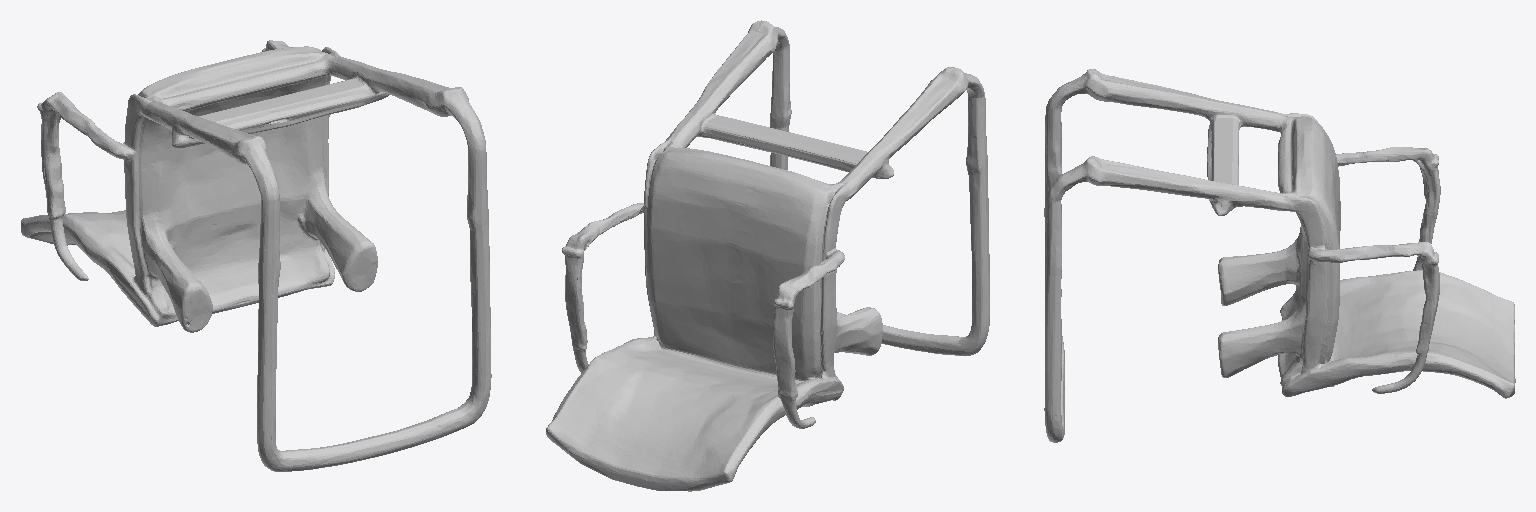
robot.urdf — chairblack_cari4d:
<?xml version="1.0" ?>
<robot name="chairblack_cari4d">
  <material name="chairblack_cari4d_color">
    <color rgba="0.8 0.8 0.8 1.0"/>
  </material>

  <link name="chairblack_cari4d_link">
    <inertial>
      <origin rpy="0 0 0" xyz="0 0 0"/>
      <mass value="4.0"/>
      <inertia ixx="0.1" ixy="0" ixz="0" iyy="0.1" iyz="0" izz="0.1"/>
    </inertial>

    <visual>
      <origin rpy="0 0 0" xyz="0 0 0"/>
      <geometry>
        <mesh filename="chairblack_cari4d_clean.obj" scale="1 1 1"/>
      </geometry>
      <material name="chairblack_cari4d_color"/>
    </visual>

    <collision name="chairblack_cari4d_collision">
      <origin rpy="0 0 0" xyz="-0.0009915 -0.0144335 0.0012355"/>
      <geometry>
        <box size="0.457009 0.852929 0.586453"/>
      </geometry>
    </collision>
  </link>
</robot>

--- What the picture shows (computed from the rendered views, not written in the file) ---
Views: 3 orthographic renders of the robot side by side, from view 1: azimuth 30°, elevation 25°; view 2: azimuth 150°, elevation 25°; view 3: azimuth 270°, elevation 25°.
Robot: chairblack_cari4d — 1 links, 0 joints (none); root link chairblack_cari4d_link; default pose: all joints at 0.
Links seen in each view (by area): view 1: chairblack_cari4d_link; view 2: chairblack_cari4d_link; view 3: chairblack_cari4d_link.
Link boxes in pixels (x1=…): chairblack_cari4d_link: x1=21, y1=40, x2=491, y2=471; chairblack_cari4d_link: x1=546, y1=20, x2=989, y2=491; chairblack_cari4d_link: x1=1044, y1=69, x2=1515, y2=442.
Bounding box of the posed robot: 0.457 × 0.8529 × 0.5865 m (x, y, z).
1 mesh visuals loaded from 1 distinct referenced files (1 OBJ).
